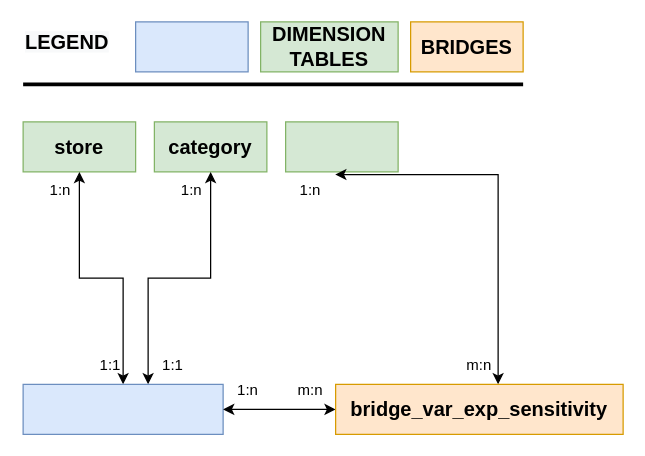
This 645x456 diagram has some shape labels left out. Here are the shapes that lost their labels. From the top down, the centre of each, then its label:
the point at 191,46: FACT TABLES
the point at 341,146: sensitivity
the point at 122,408: variable_expenses
